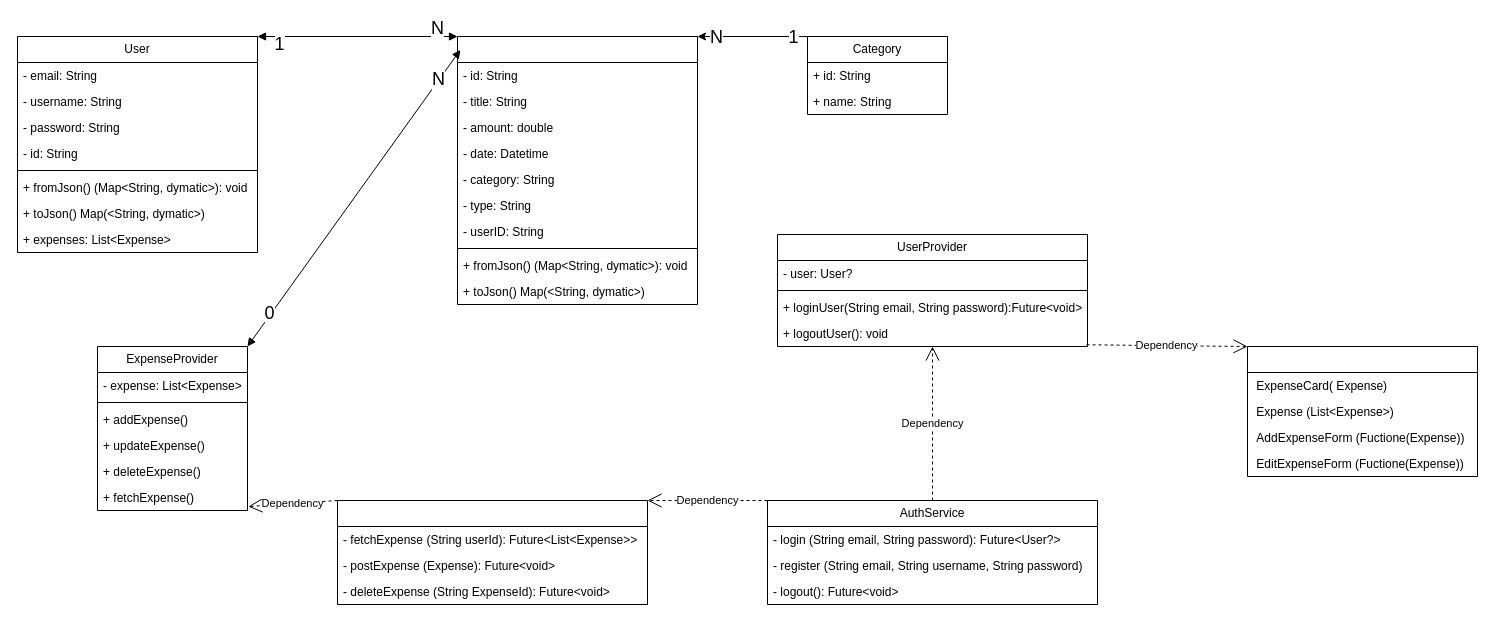
This 1495x625 diagram has some shape labels left out. The shapes that lost their labels are listed below. From the top down, each one's box as (x1, y1, x2, y2) in pixels, then its label:
(456, 36, 698, 304): Expense
(1246, 346, 1478, 476): Widgets
(336, 500, 648, 604): APIService
